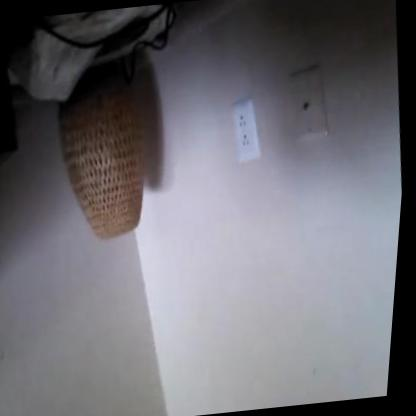OUTLET: (226, 98, 263, 162)
